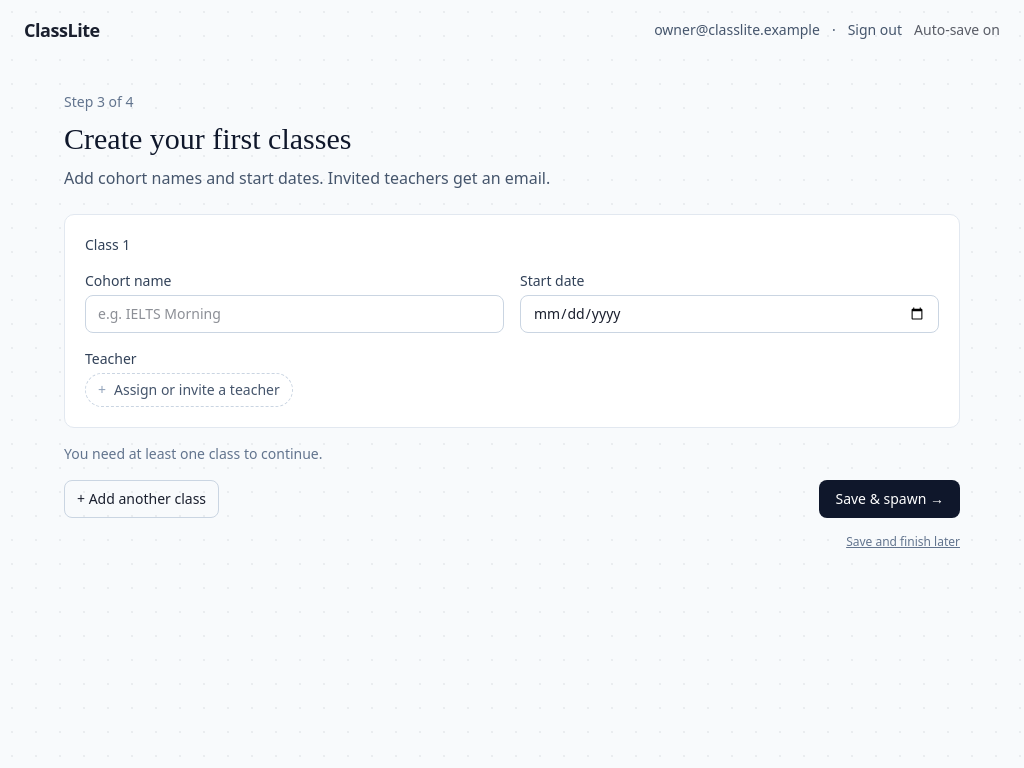
Test: AC4 — /setup/spawn multi-row form › + Add another class appends a row; delete becomes visible on all rows
Check: the heading "Create your first classes" is shown, box [64,122,351,155]
Click the button "+ Add another class" at coordinates (142, 498), box [64,480,219,518]
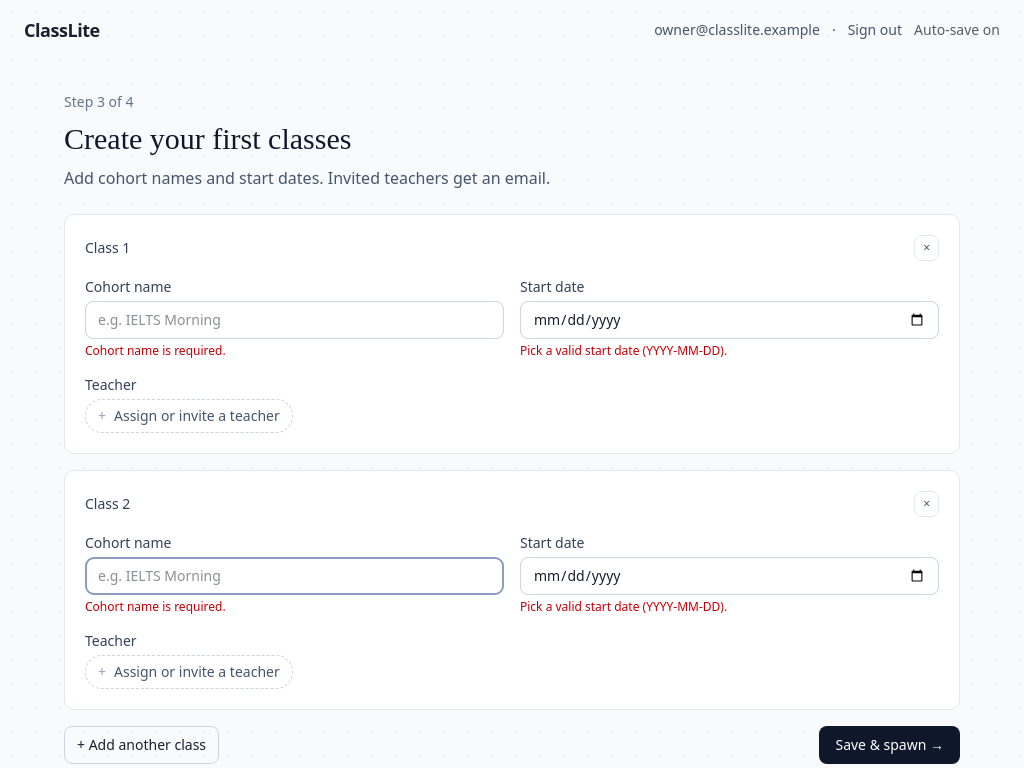
Check: the button named "Delete class 1" is shown, box [914,234,939,260]
Check: the button named "Delete class 2" is shown, box [914,490,939,516]
